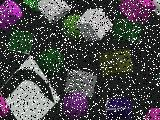Right: (0, 55, 60, 120)
